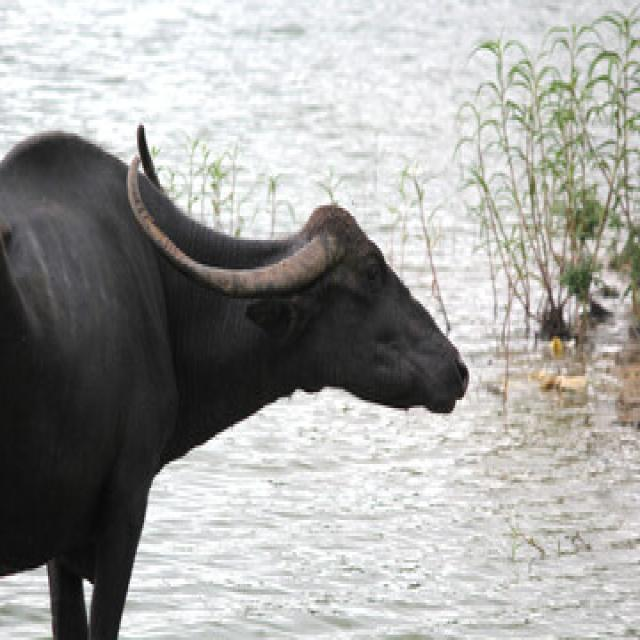Buffalo: (0, 119, 469, 637)
